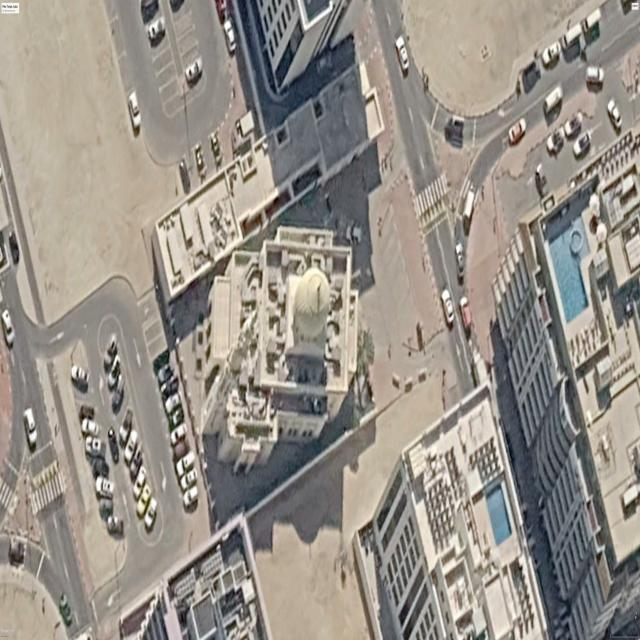Home: (202, 226, 359, 471)
